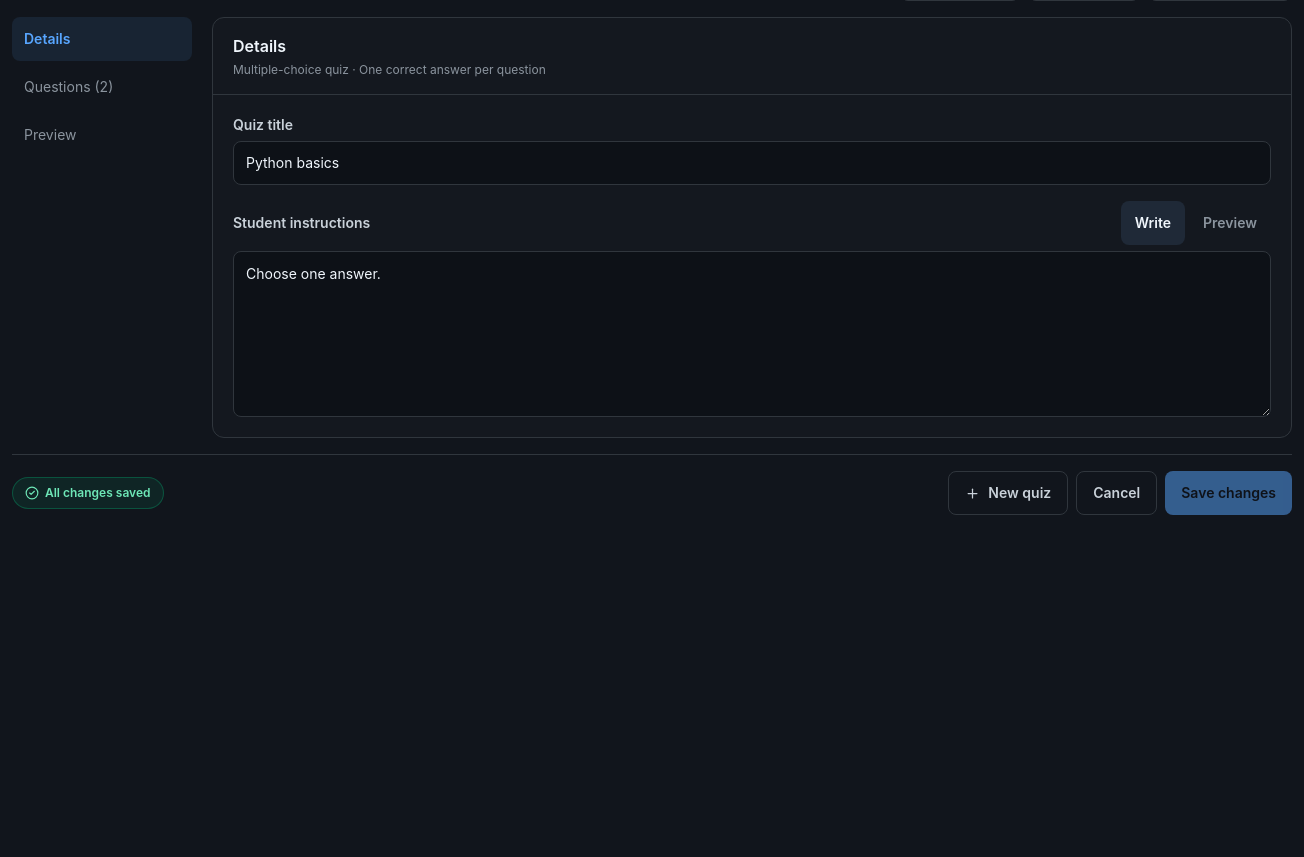
preserves the selected answer through choice and question reordering
This screenshot has width=1304, height=857.
Click the button "Questions (2)" at (102, 87), box [12,65,192,109]
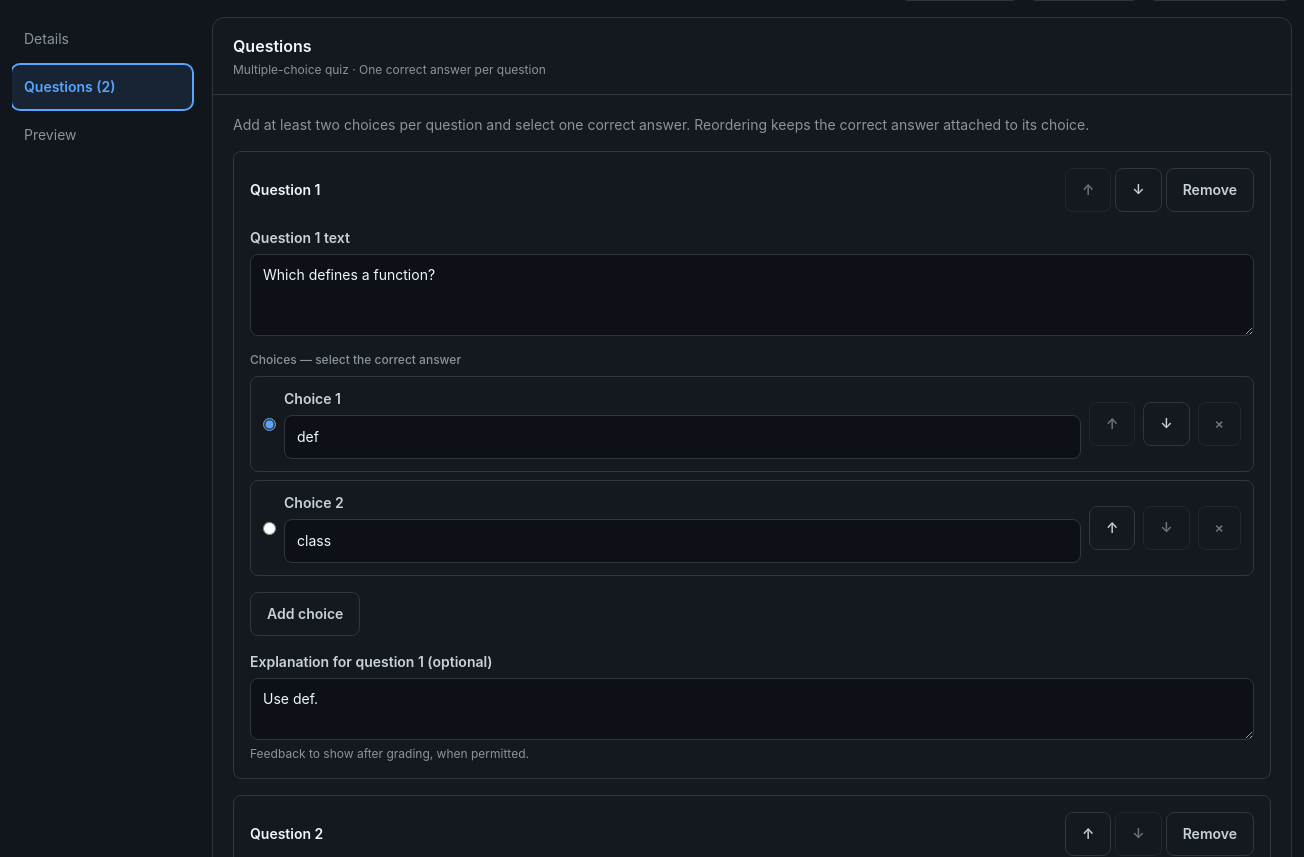
Click the radio button named "Choice 2 is correct for question 1" at (270, 528), box [263,522,276,534]
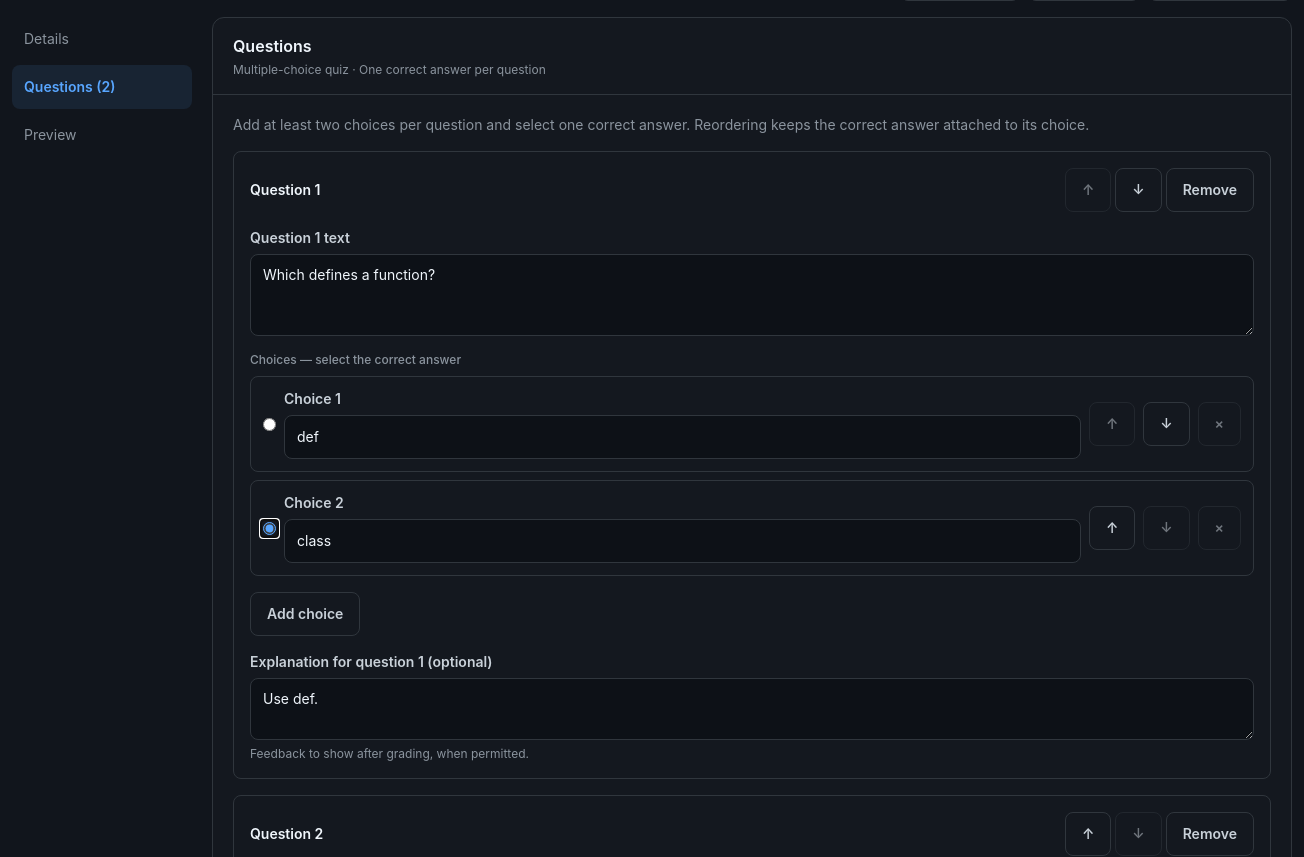
Click the button named "Move choice 2 up in question 1" at (1112, 528), box [1089,506,1135,550]
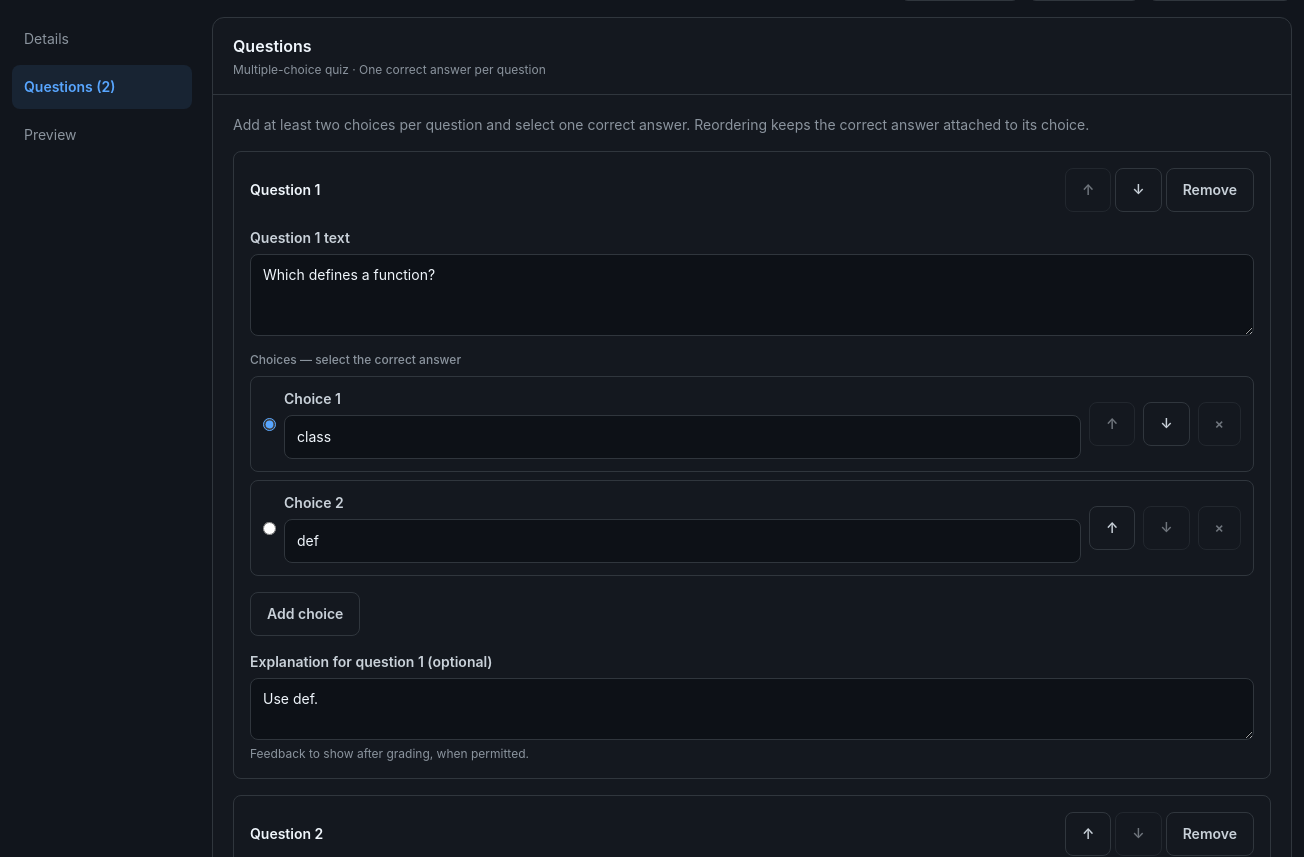
Click the button named "Move question 1 down" at (1138, 190), box [1115,168,1162,212]
(page scrolled)
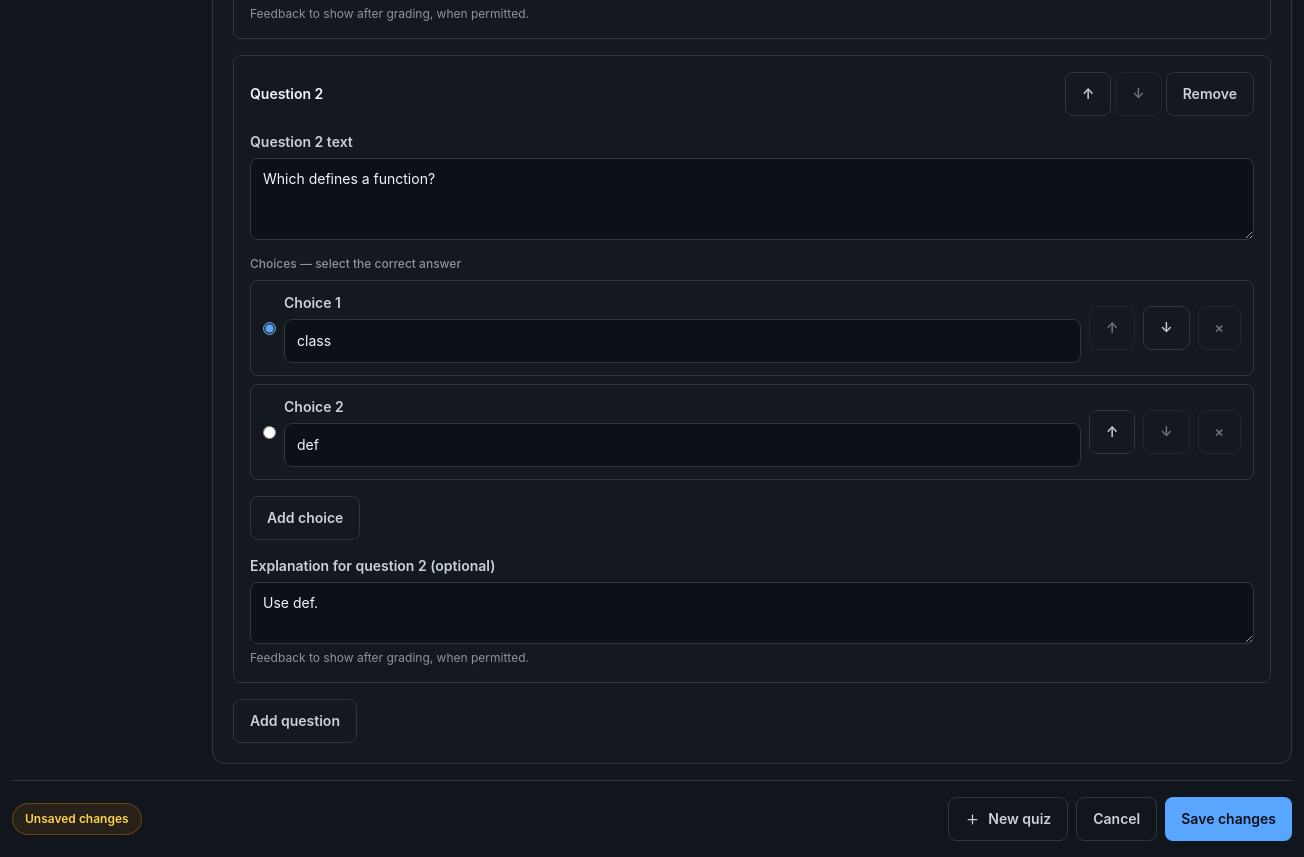
Click the button "Save changes" at (1229, 819), box [1165,797,1292,841]
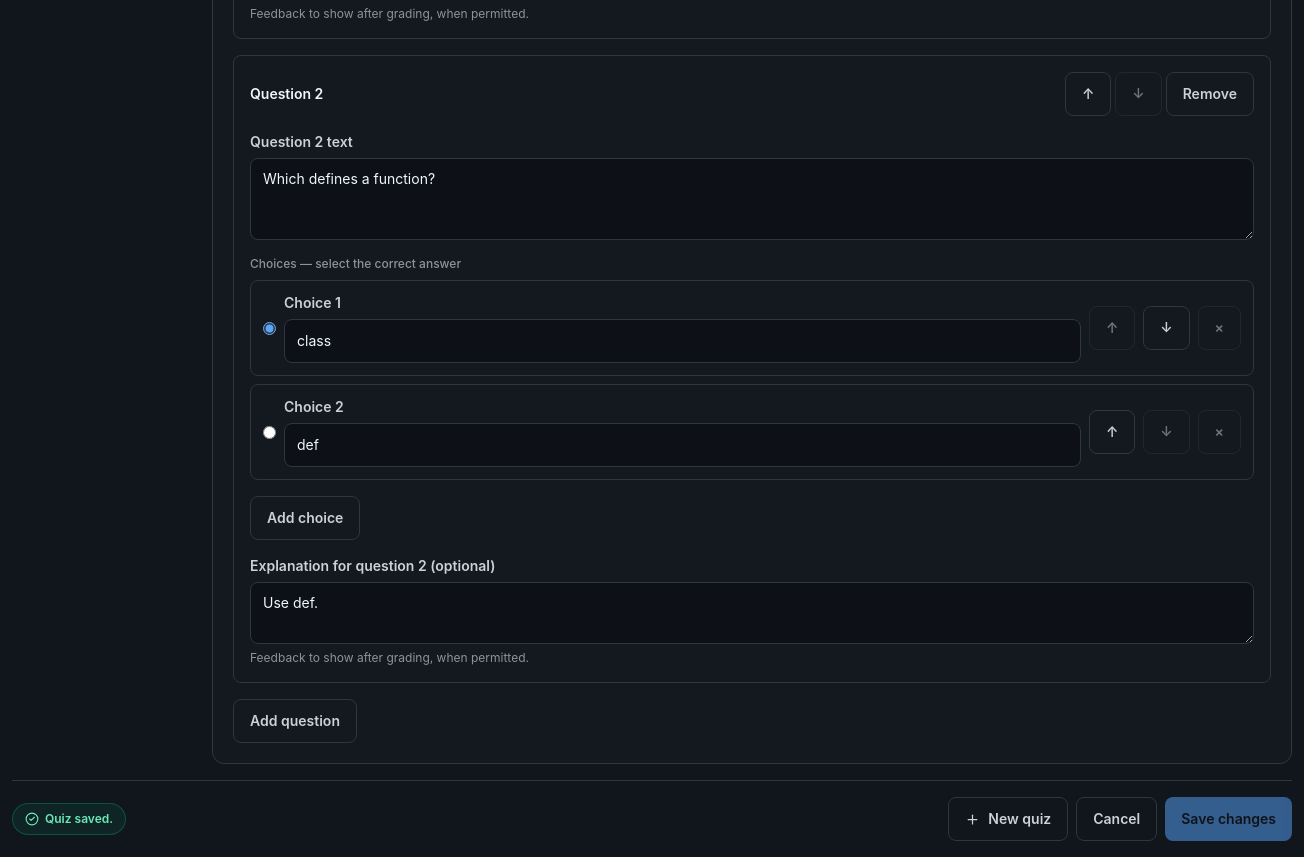
Check: the text "Quiz saved." is shown, box [12,803,126,835]
